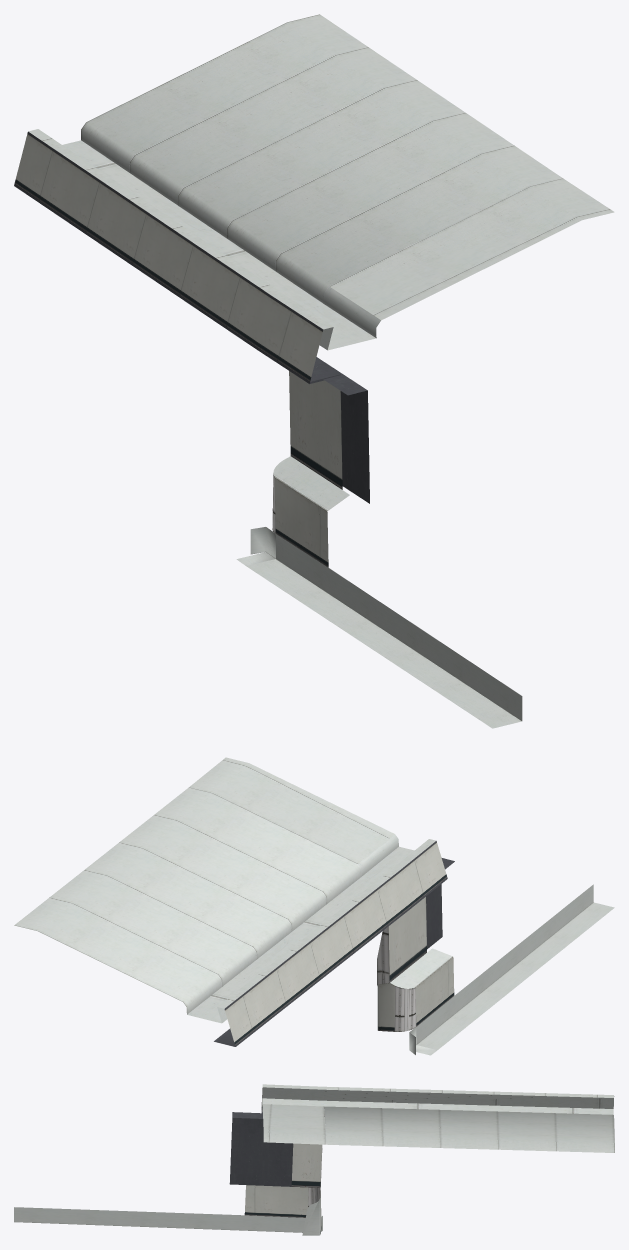
File: STA20_officeext03.FBX
3 views of the same model, one above another, from view 1: azimuth 30°, elevation 25°; view 2: azimuth 150°, elevation 25°; view 3: azimuth 270°, elevation 25° (orthographic). The views are drawn at different scales.
Parts seen in each view (by area): view 1: STA20_officeext03; view 2: STA20_officeext03; view 3: STA20_officeext03.
Part boxes in pixels (bbox=[...]): STA20_officeext03: bbox=[14, 14, 614, 728]; STA20_officeext03: bbox=[14, 757, 614, 1055]; STA20_officeext03: bbox=[14, 1084, 614, 1235].
Bounding box in the file's own units: 20.58 × 17.87 × 54.18.
